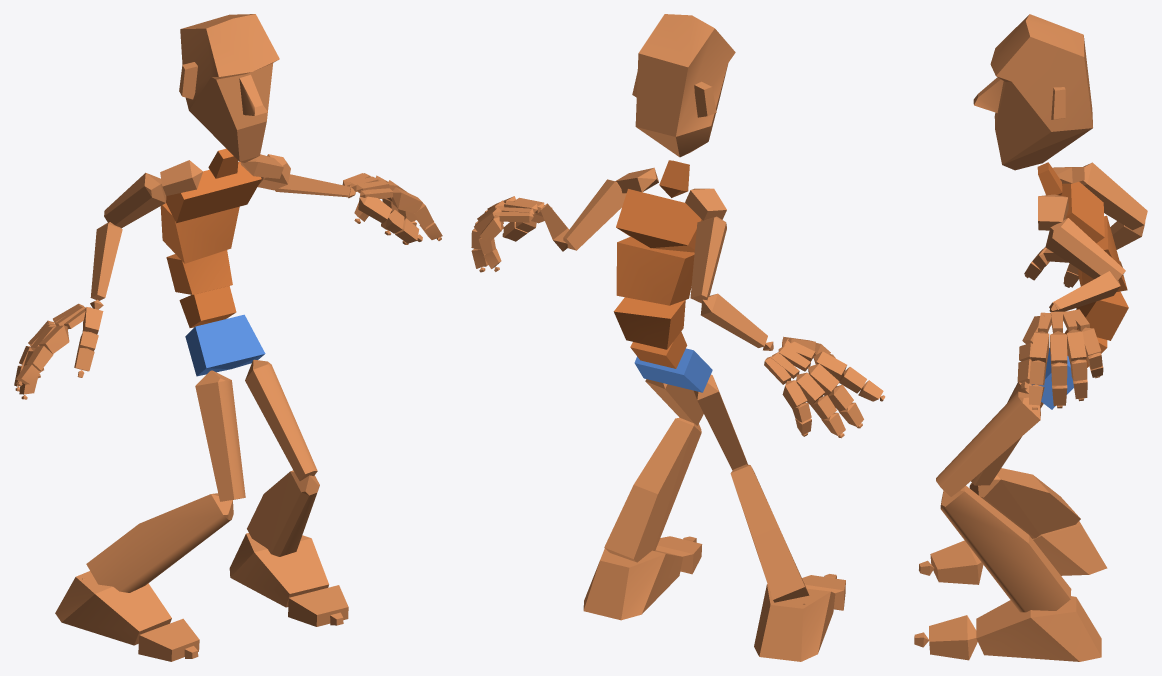
File: prueba126.obj
The picture shows the model from 3 angles, left to right: view 1: azimuth 30°, elevation 25°; view 2: azimuth 150°, elevation 25°; view 3: azimuth 270°, elevation 25°; orthographic projection. The views are drawn at different scales.
Parts seen in each view (by area): view 1: BOPED_Head, BOPED_R_leg, BOPED_R_foot, BOPED_R_foot01, BOPED_R_legup, BOPED_L_leg, Bone01, BOPED_L_legup, Bone04, Bone05, Bone03, BOPED_R_arm_upper (+8 smaller); view 2: BOPED_Head, BOPED_L_leg, BOPED_R_foot01, BOPED_R_foot, Bone04, BOPED_R_leg, Bone05, Bone03, BOPED_R_arm_upper, BOPED_L_arm_upper, BOPED_R_legup, Bone01 (+9 smaller); view 3: BOPED_Head, BOPED_L_leg, BOPED_R_foot01, BOPED_R_leg, BOPED_L_legup, BOPED_R_foot, BOPED_L_arm_upper, BOPED_R_arm_upper, BOPED_R_foot_toe01, BOPED_R_foot_toe04, Bone05, Bone03 (+14 smaller).
Part boxes in pixels (box(x1,y1,x2,y2)): BOPED_Head: box(179, 14, 279, 162); BOPED_R_leg: box(86, 493, 233, 592); BOPED_R_foot: box(55, 571, 171, 645); BOPED_R_foot01: box(229, 533, 328, 607); BOPED_R_legup: box(195, 370, 245, 501); BOPED_L_leg: box(247, 470, 319, 556); Bone01: box(185, 314, 265, 376); BOPED_L_legup: box(245, 359, 317, 480); Bone04: box(160, 203, 239, 263); Bone05: box(166, 162, 261, 223); Bone03: box(166, 250, 232, 294); BOPED_R_arm_upper: box(104, 172, 166, 228); BOPED_Head: box(632, 14, 735, 157); BOPED_L_leg: box(604, 417, 701, 562); BOPED_R_foot01: box(583, 548, 682, 620); BOPED_R_foot: box(754, 584, 835, 661); Bone04: box(616, 237, 694, 305); BOPED_R_leg: box(730, 464, 809, 602); Bone05: box(616, 189, 702, 252); Bone03: box(613, 297, 685, 349); BOPED_R_arm_upper: box(690, 216, 726, 303); BOPED_L_arm_upper: box(563, 179, 626, 250); BOPED_R_legup: box(694, 374, 747, 470); Bone01: box(634, 348, 712, 392); BOPED_Head: box(973, 14, 1092, 170); BOPED_L_leg: box(940, 486, 1071, 612); BOPED_R_foot01: box(976, 596, 1101, 661); BOPED_R_leg: box(969, 468, 1080, 538); BOPED_L_legup: box(936, 391, 1040, 496); BOPED_R_foot: box(1032, 521, 1107, 575); BOPED_L_arm_upper: box(1045, 218, 1125, 280); BOPED_R_arm_upper: box(1079, 162, 1147, 230); BOPED_R_foot_toe01: box(930, 540, 983, 584); BOPED_R_foot_toe04: box(929, 615, 977, 660); Bone05: box(1061, 182, 1104, 243); Bone03: box(1076, 291, 1128, 340).
Size of the model in its own units: 130 by 174 by 61.48.
